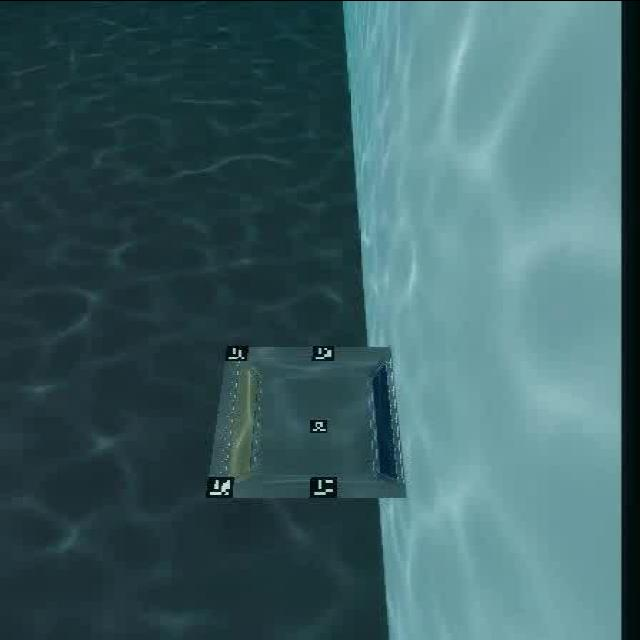Docking Station: (192, 338, 409, 499)
